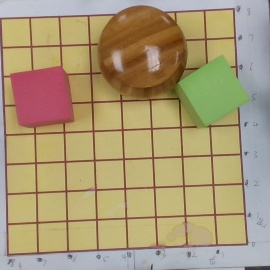chess: (97, 6, 189, 97)
